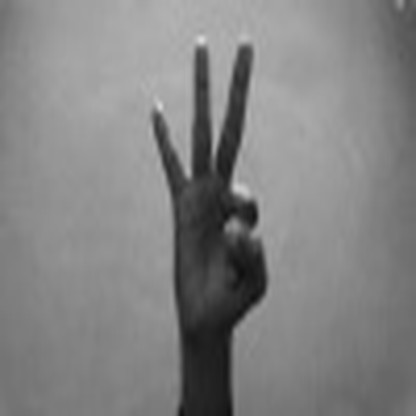f: (141, 25, 281, 333)
